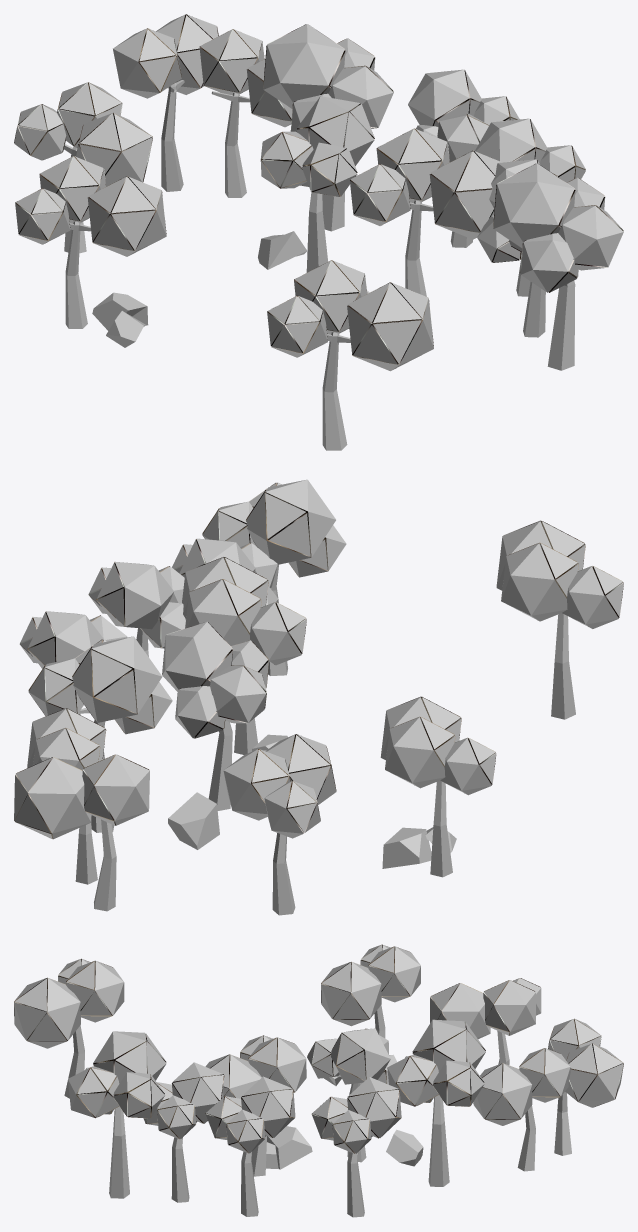
Rendered from Forest.fbx.
The picture shows the model from 3 angles, top to bottom: view 1: azimuth 30°, elevation 25°; view 2: azimuth 150°, elevation 25°; view 3: azimuth 270°, elevation 25°; orthographic projection. The views are drawn at different scales.
Visible parts, largest first — view 1: Tree1.003, Tree2.002, Tree1.001, Tree1.002, Tree2.003, Tree2.004, Tree1.004, Tree1.005, Tree1.006, Tree2.006, Tree2.005, Tree2.001 (+3 smaller); view 2: Tree1.003, Tree2.004, Tree1.005, Tree1.004, Tree1.002, Tree2.003, Tree1.001, Tree2.002, Tree2.005, Tree1.006, Tree2.006, Tree2.001 (+2 smaller); view 3: Tree2.002, Tree2.003, Tree1.003, Tree1.002, Tree1.006, Tree2.006, Tree2.005, Tree1.004, Tree1.005, Tree2.001, Tree1.001, Tree2.004 (+2 smaller).
Boxes of the visible parts, bbox=[...] form: Tree1.003: bbox=[267, 260, 433, 450]; Tree2.002: bbox=[493, 163, 623, 370]; Tree1.001: bbox=[349, 128, 501, 296]; Tree1.002: bbox=[15, 156, 166, 328]; Tree2.003: bbox=[263, 24, 393, 231]; Tree2.004: bbox=[260, 96, 374, 272]; Tree1.004: bbox=[14, 82, 152, 253]; Tree1.005: bbox=[113, 14, 218, 191]; Tree1.006: bbox=[199, 29, 292, 197]; Tree2.006: bbox=[408, 69, 519, 247]; Tree2.005: bbox=[475, 118, 585, 296]; Tree2.001: bbox=[477, 159, 545, 337]; Tree1.003: bbox=[496, 520, 623, 719]; Tree2.004: bbox=[162, 621, 269, 810]; Tree1.005: bbox=[14, 754, 149, 911]; Tree1.004: bbox=[223, 734, 336, 915]; Tree1.002: bbox=[380, 696, 496, 877]; Tree2.003: bbox=[28, 636, 172, 832]; Tree1.001: bbox=[182, 557, 306, 754]; Tree2.002: bbox=[202, 479, 346, 675]; Tree2.005: bbox=[88, 561, 185, 656]; Tree1.006: bbox=[27, 708, 106, 884]; Tree2.006: bbox=[19, 611, 127, 715]; Tree2.001: bbox=[172, 538, 278, 605]; Tree2.002: bbox=[68, 1031, 166, 1198]; Tree2.003: bbox=[387, 1019, 485, 1186]; Tree1.003: bbox=[14, 958, 124, 1098]; Tree1.002: bbox=[321, 944, 420, 1038]; Tree1.006: bbox=[473, 1048, 570, 1171]; Tree2.006: bbox=[311, 1077, 401, 1217]; Tree2.005: bbox=[205, 1076, 295, 1216]; Tree1.004: bbox=[430, 978, 541, 1065]; Tree1.005: bbox=[548, 1018, 623, 1155]; Tree2.001: bbox=[143, 1062, 224, 1202]; Tree1.001: bbox=[205, 1035, 306, 1176]; Tree2.004: bbox=[307, 1028, 396, 1162].
Bounding box in the file's own units: 4724 × 1906 × 6536.
